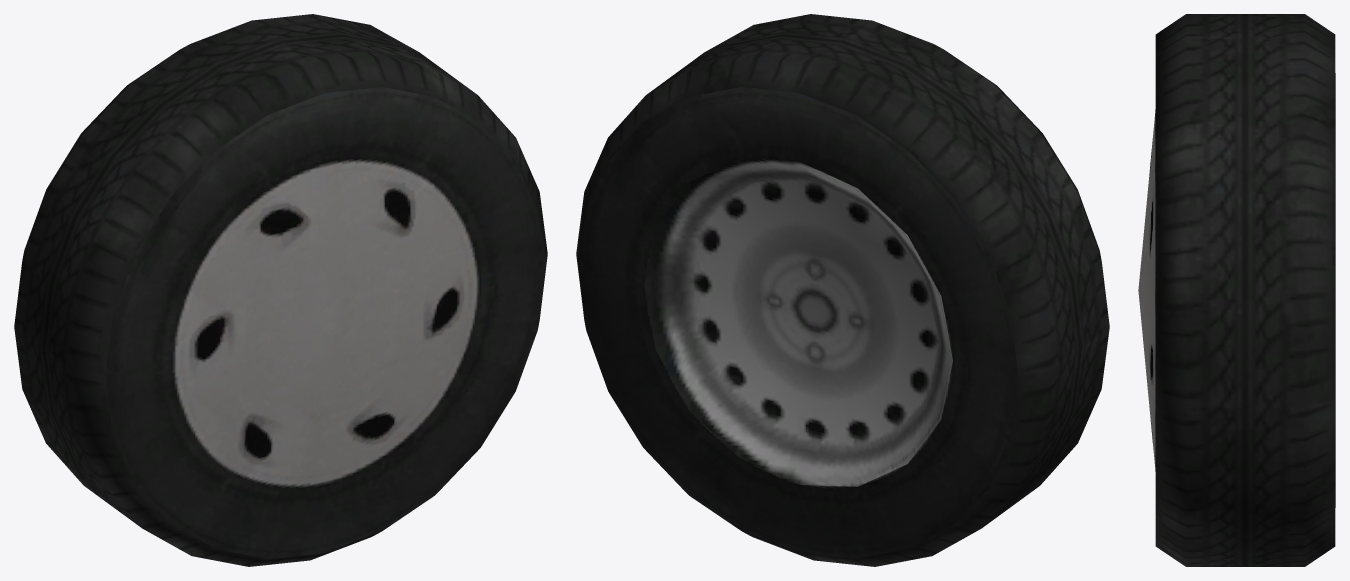
The model's file is V_A_2DrCoupe_Wheels_2_SkeletalMesh3_SkeletalMesh_1.psk.glb.
The picture shows the model from 3 angles, left to right: view 1: azimuth 30°, elevation 25°; view 2: azimuth 150°, elevation 25°; view 3: azimuth 270°, elevation 25°; orthographic projection.
Bounding box in the file's own units: 68.99 × 68.99 × 24.51.
1 material, 1 textured.
